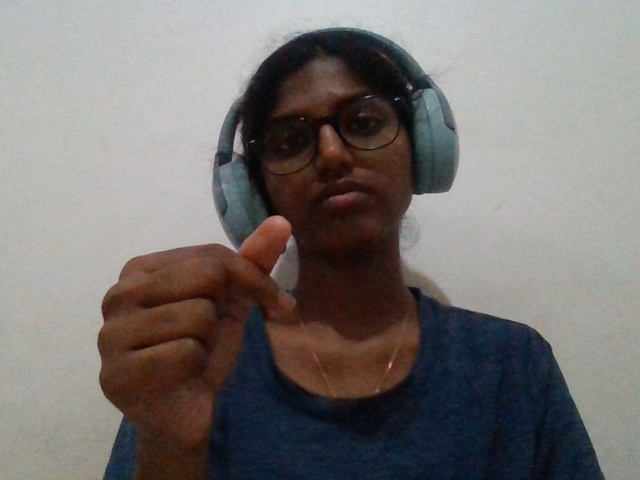G: (67, 206, 323, 473)
